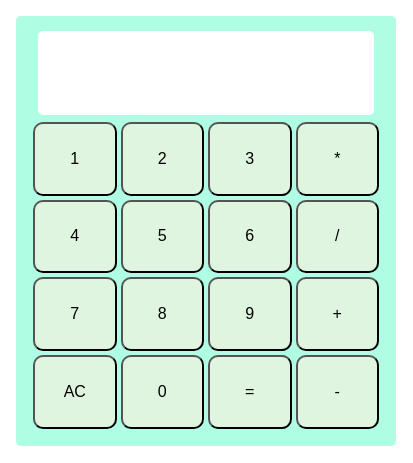
Test: Calculator › calculates the multiplication
Click the button "5": [162, 236] box x1=120 y1=200 x2=204 y2=273
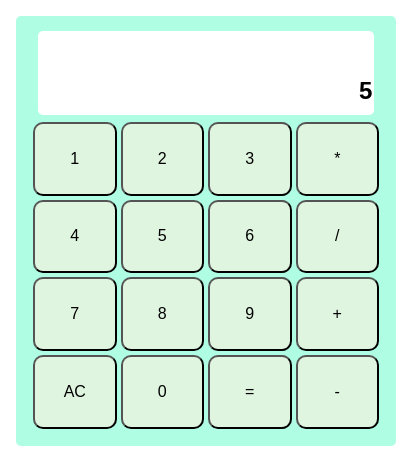
Click the button "*": [337, 159] box x1=296 y1=122 x2=379 y2=196
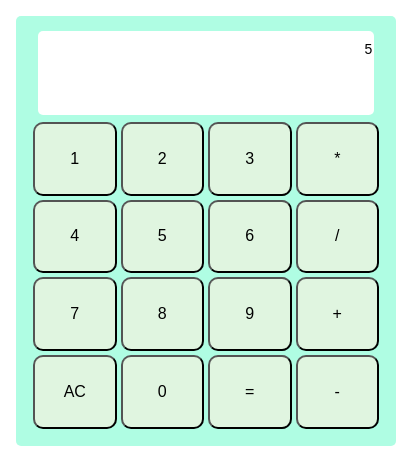
Click the button "7": [75, 314] box x1=33 y1=277 x2=116 y2=351
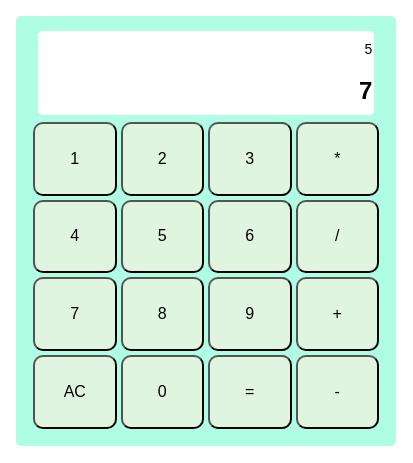
Click the button "=": [250, 392] box x1=208 y1=355 x2=292 y2=429
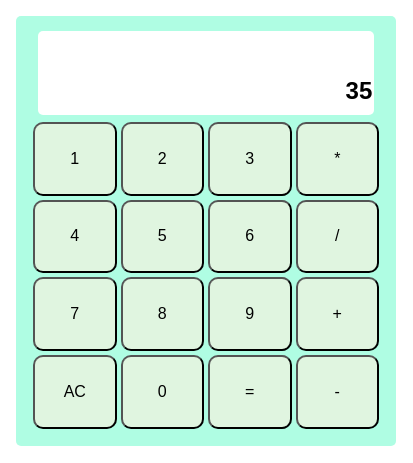
expect the field showing "35" is shown: met, box x1=38 y1=67 x2=374 y2=115
